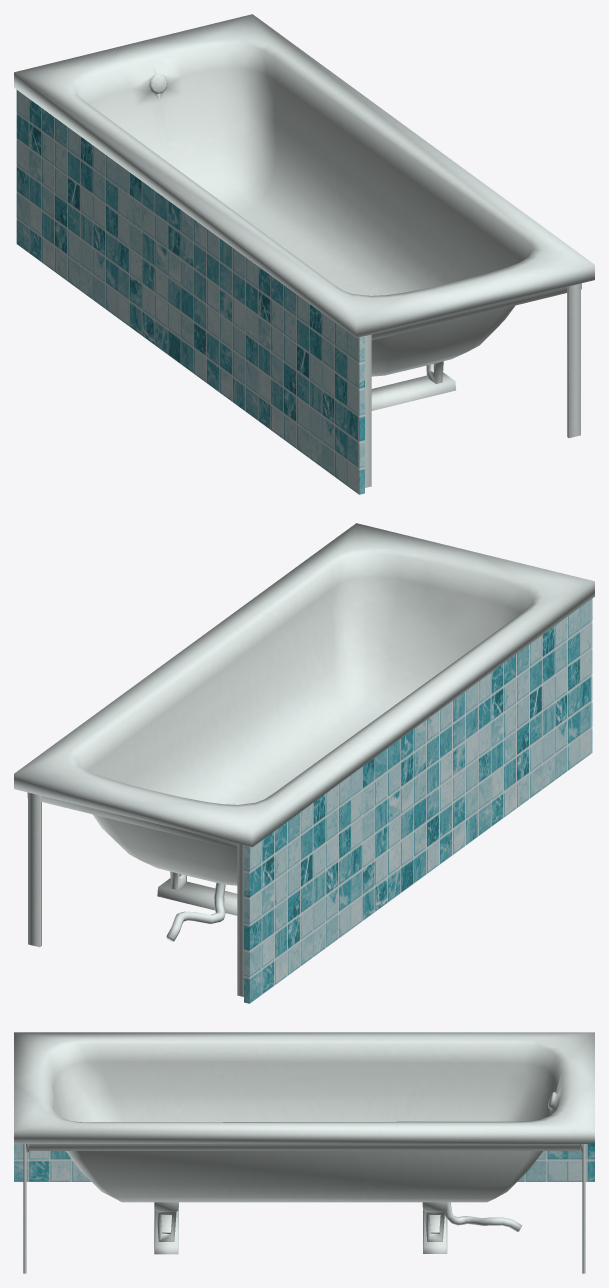
The model's file is Bath03.FBX.
3 renders of one model, top to bottom at view 1: azimuth 30°, elevation 25°; view 2: azimuth 150°, elevation 25°; view 3: azimuth 270°, elevation 25°, orthographic. The views are drawn at different scales.
Visible parts, largest first — view 1: Bath03, Bath03Tiles; view 2: Bath03, Bath03Tiles; view 3: Bath03, Bath03Tiles.
Part boxes in pixels (x1,y1,x2,y2): Bath03: [14, 14, 594, 487]; Bath03Tiles: [16, 90, 364, 494]; Bath03: [14, 523, 594, 996]; Bath03Tiles: [244, 599, 592, 1003]; Bath03: [14, 1032, 594, 1273]; Bath03Tiles: [14, 1144, 594, 1181].
Size of the model in its own units: 50.43 by 35.05 by 125.
